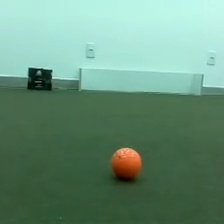ball: (107, 144, 144, 182)
goal: (77, 66, 206, 96)
robot: (25, 65, 54, 91)
